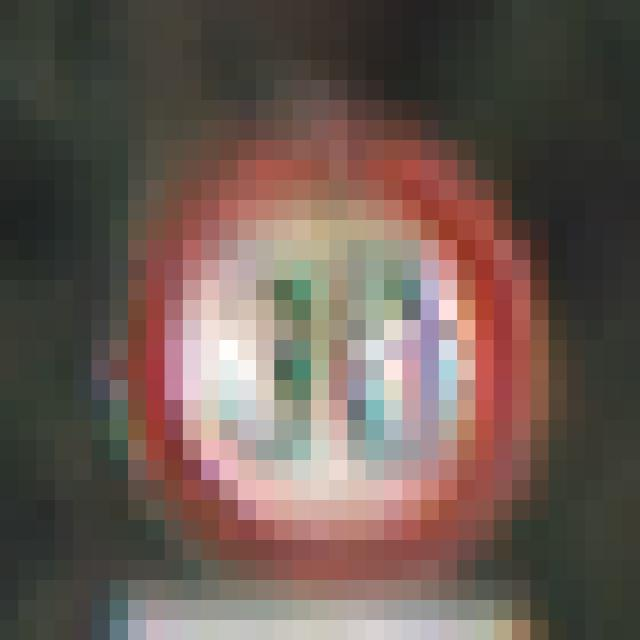Speed Limit -30-: (101, 90, 521, 530)
